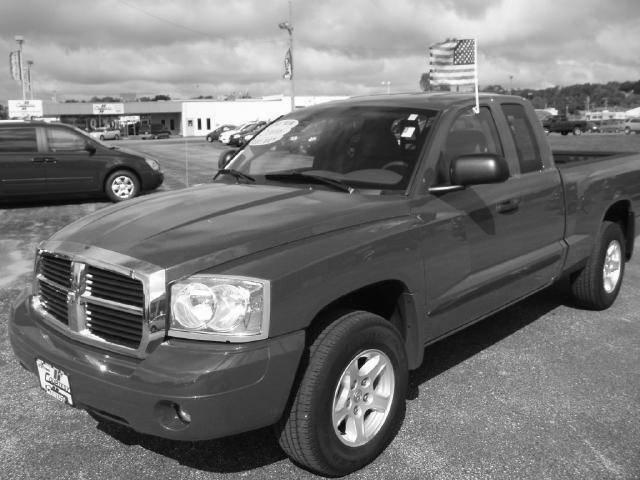car: (12, 84, 636, 479)
